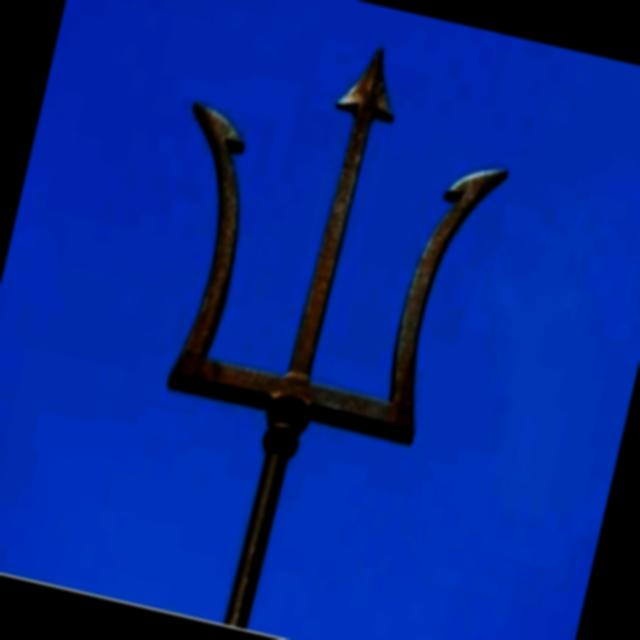spear: (61, 0, 548, 640)
